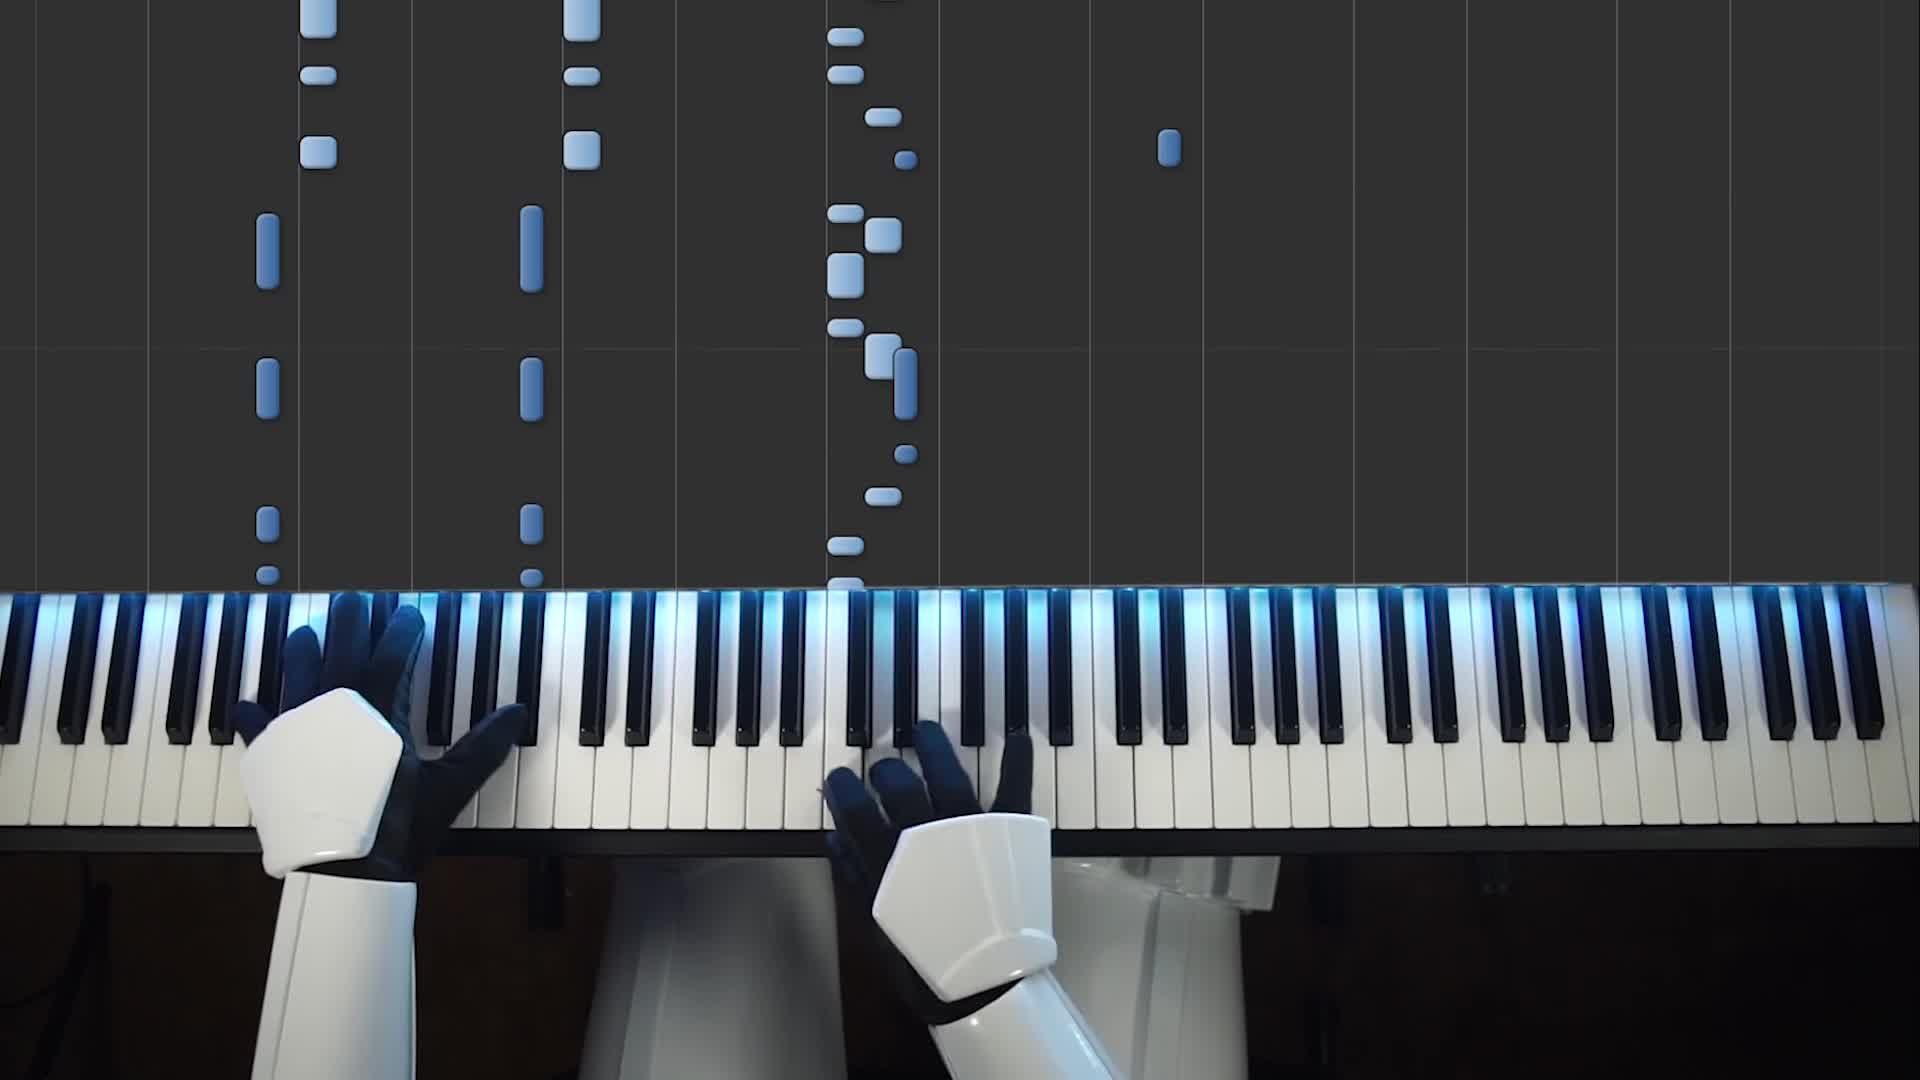left: (232, 596, 531, 880)
right: (822, 723, 1052, 1015)
